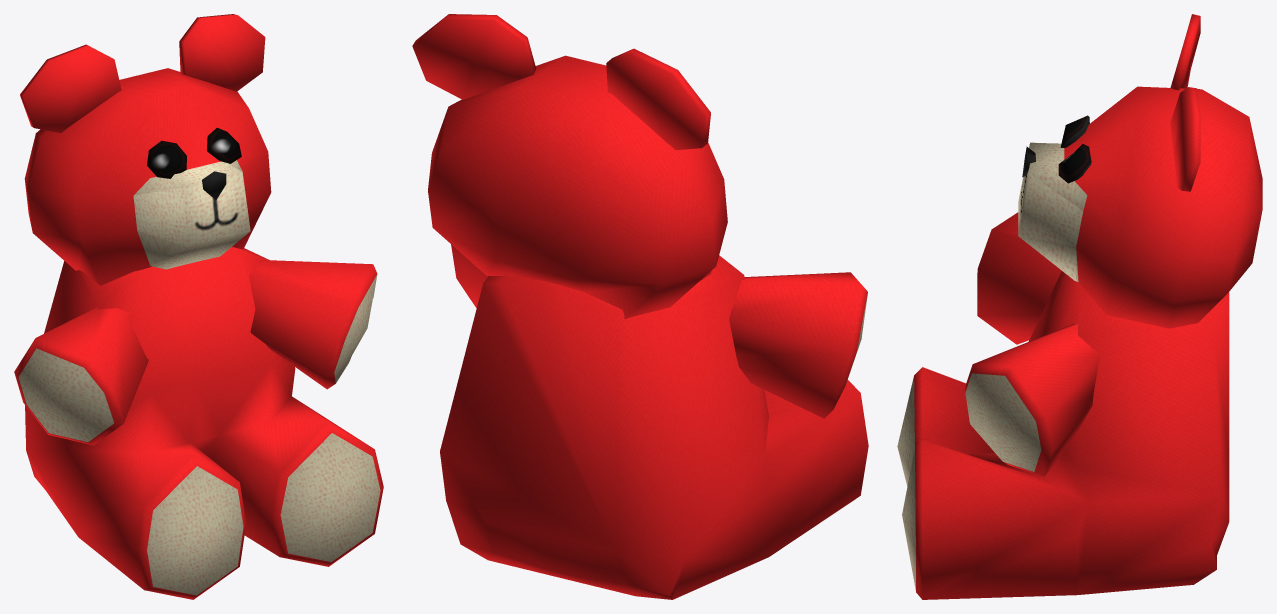
Rendered from Buddy_Bear_E.FBX.
3 views of the same model, side by side, from view 1: azimuth 30°, elevation 25°; view 2: azimuth 150°, elevation 25°; view 3: azimuth 270°, elevation 25° (orthographic). The views are drawn at different scales.
Parts seen in each view (by area): view 1: Buddy_ Bear; view 2: Buddy_ Bear; view 3: Buddy_ Bear.
Boxes of the visible parts, bbox=[...] form: Buddy_ Bear: bbox=[14, 14, 383, 599]; Buddy_ Bear: bbox=[412, 14, 868, 599]; Buddy_ Bear: bbox=[897, 14, 1262, 599].
Size of the model in its own units: 55.36 by 71.18 by 46.3.
